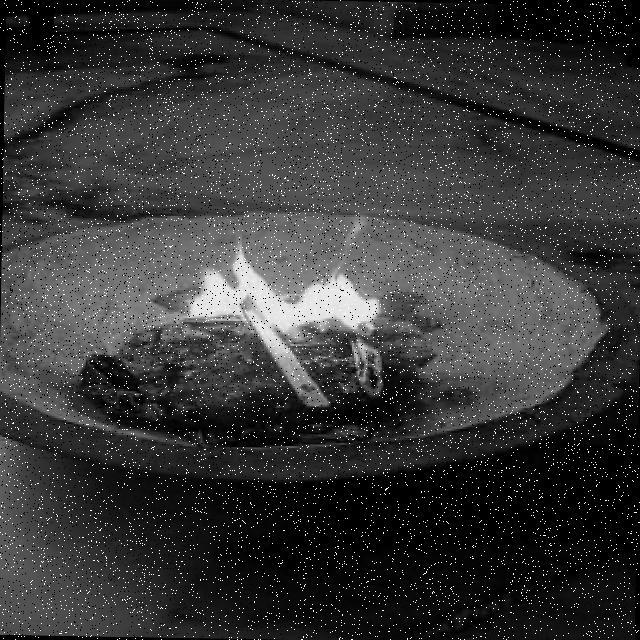Fire: (162, 217, 382, 351)
